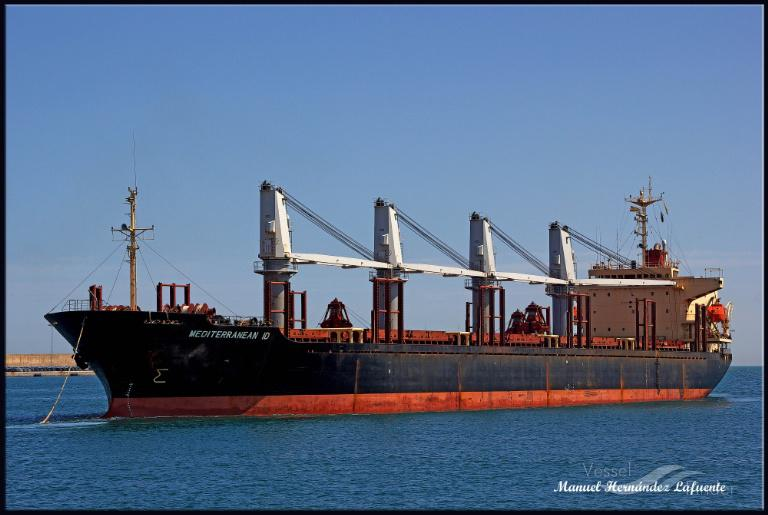OCR: (174, 322, 280, 351)
